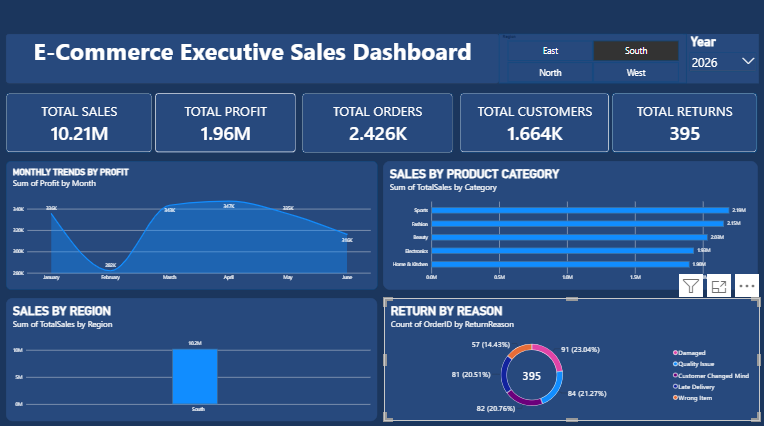

The dashboard page shown, as its layout file describes it:
{"tool":"powerbi","page":{"name":"Page 1","canvas":[1920,1080],"ordinal":0},"visuals":[{"type":"textbox","box":[17.3,92.9,1233.4,123.1],"z":0},{"type":"slicer","fields":{"Values":["orders.OrderDate.Variation.Date Hierarchy.Year","orders.OrderDate.Variation.Date Hierarchy.Quarter","orders.OrderDate.Variation.Date Hierarchy.Month","orders.OrderDate.Variation.Date Hierarchy.Day"]},"box":[1719.4,92.9,179.3,123.1],"z":1000},{"type":"slicer","fields":{"Values":["orders.Region"]},"box":[1250.6,92.9,468.7,123.1],"z":2000},{"type":"lineChart","title":"MONTHLY TRENDS BY PROFIT","fields":{"Category":["orders.OrderDate.Variation.Date Hierarchy.Month"],"Y":["Sum(orders.Profit)"]},"box":[17.3,410.4,928.8,321.8],"z":3000},{"type":"clusteredBarChart","title":"SALES BY PRODUCT CATEGORY","fields":{"Category":["Products.Category"],"Y":["Sum(orders.TotalSales)"]},"box":[959,410.4,937.4,321.8],"z":4000},{"type":"clusteredColumnChart","title":"SALES BY REGION","fields":{"Category":["orders.Region"],"Y":["Sum(orders.TotalSales)"]},"box":[17.5,752.5,927.5,307.5],"z":5000},{"type":"donutChart","title":"RETURN BY REASON","fields":{"Category":["returns.ReturnReason"],"Y":["CountNonNull(returns.OrderID)"]},"box":[962.5,752.5,940,307.5],"z":6000},{"type":"cardVisual","fields":{"Data":["Sum(orders.TotalSales)"]},"box":[17.3,239.8,365,149],"z":7000},{"type":"cardVisual","fields":{"Data":["Sum(orders.Profit)"]},"box":[388.8,239.8,352.1,149],"z":8000},{"type":"cardVisual","fields":{"Data":["Count(orders.OrderID)"]},"box":[757.5,240,377.5,150],"z":9000},{"type":"cardVisual","fields":{"Data":["Count(orders.CustomerID)"]},"box":[1151.3,239.8,373.7,149],"z":10000},{"type":"cardVisual","fields":{"Data":["Count(returns.OrderID)"]},"box":[1533.6,239.8,362.9,149],"z":11000}]}

Visuals, with their boxes in screenshot pixels (x1, y1, x2, y2), scaled from the page's 1920x1080 canvas onto the 764x426 screenshot:
textbox: region(7, 37, 498, 85)
slicer - orders.OrderDate.Variation.Date Hierarchy.Year x orders.OrderDate.Variation.Date Hierarchy.Quarter: region(684, 37, 756, 85)
slicer - orders.Region: region(498, 37, 684, 85)
"MONTHLY TRENDS BY PROFIT" lineChart: region(7, 162, 376, 289)
"SALES BY PRODUCT CATEGORY" clusteredBarChart: region(382, 162, 755, 289)
"SALES BY REGION" clusteredColumnChart: region(7, 297, 376, 418)
"RETURN BY REASON" donutChart: region(383, 297, 757, 418)
cardVisual - Sum(orders.TotalSales): region(7, 95, 152, 153)
cardVisual - Sum(orders.Profit): region(155, 95, 295, 153)
cardVisual - Count(orders.OrderID): region(301, 95, 452, 154)
cardVisual - Count(orders.CustomerID): region(458, 95, 607, 153)
cardVisual - Count(returns.OrderID): region(610, 95, 755, 153)
